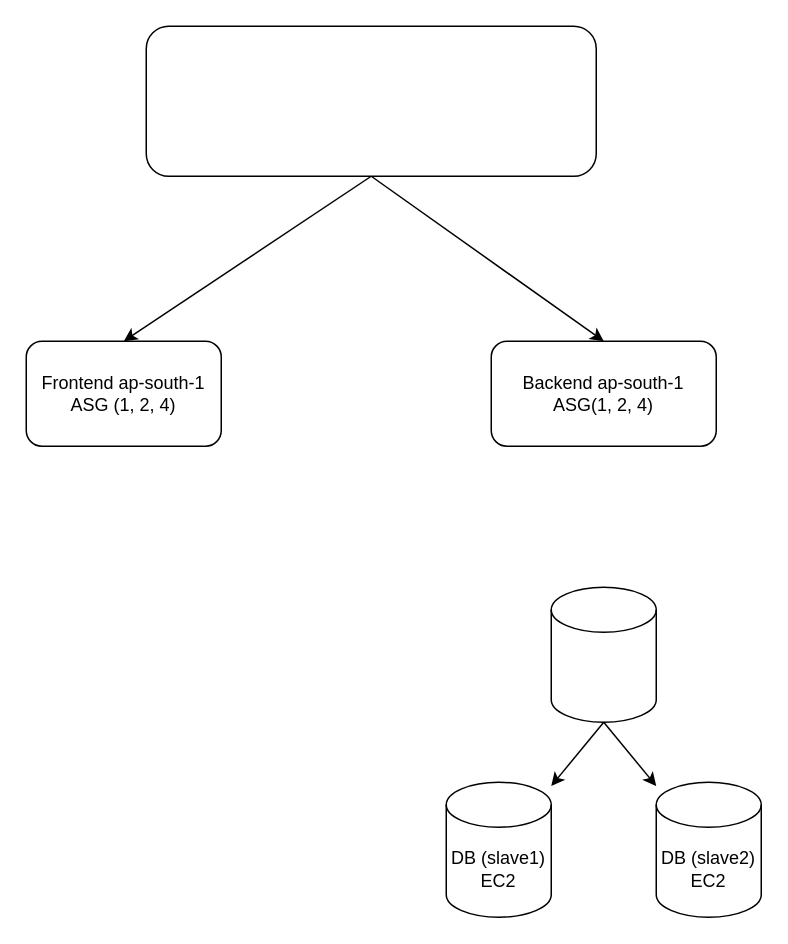
The diagram is 788 pixels wide and 944 high, and some of its shapes have lost their labels. The centre of each missing label's shape, as x and y in pixels:
"DB (master) EC2" belongs at [603,654].
"nginx reverse proxy (or use golang?) EC2" belongs at [370,100].
